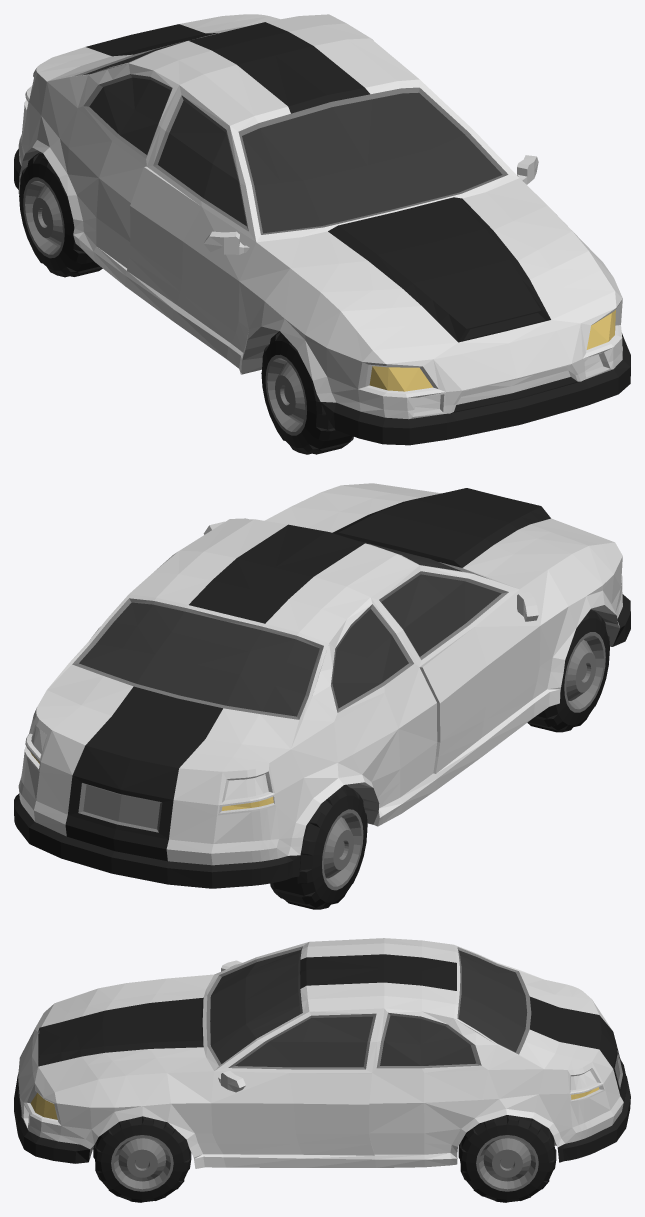
File: sports-car-b-player.glb
The picture shows the model from 3 angles, top to bottom: view 1: azimuth 30°, elevation 25°; view 2: azimuth 150°, elevation 25°; view 3: azimuth 270°, elevation 25°; orthographic projection. The views are drawn at different scales.
Visible parts, largest first — view 1: body, wheel-front-left, wheel-rear; view 2: body, wheel-rear, wheel-front-left; view 3: body, wheel-rear, wheel-front-right.
Boxes of the visible parts, box(x1,y1,x2,y2) form: body: box(14, 14, 630, 445); wheel-front-left: box(261, 331, 353, 454); wheel-rear: box(19, 152, 102, 277); body: box(14, 483, 630, 888); wheel-rear: box(270, 784, 367, 909); wheel-front-left: box(527, 609, 609, 732); body: box(14, 938, 630, 1168); wheel-rear: box(458, 1115, 556, 1202); wheel-front-right: box(93, 1116, 191, 1202).
Bounding box in the file's own units: 2.67 × 1.86 × 5.66.
2 materials, 2 textured.
